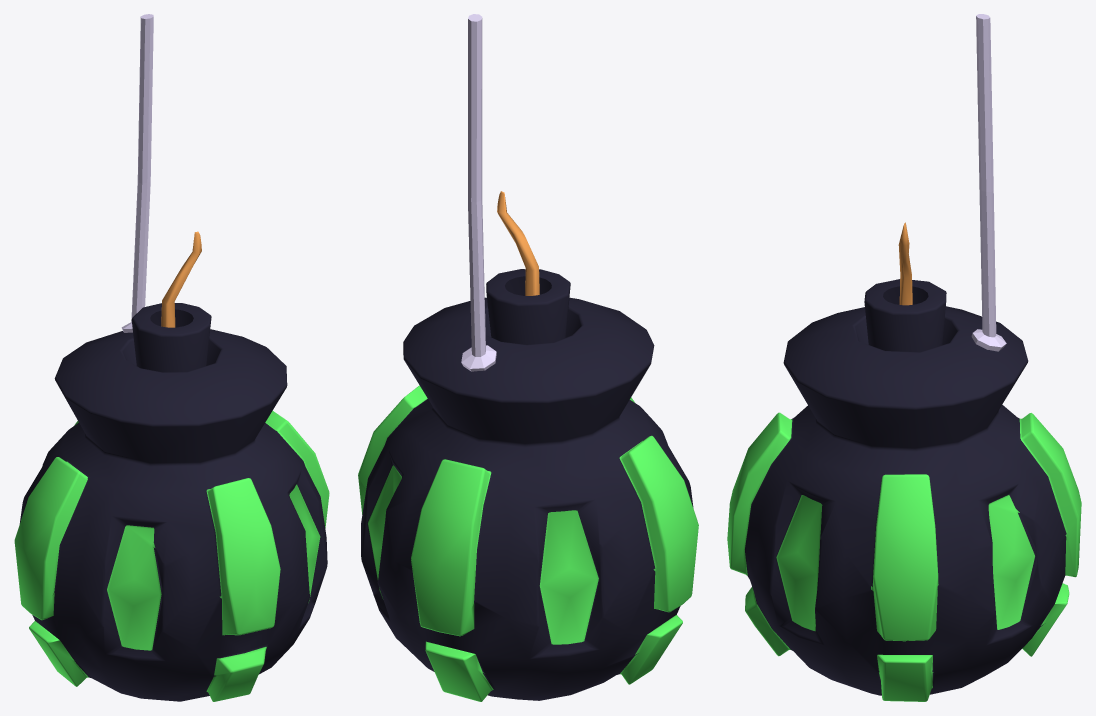
The model's file is Bomb.fbx.
3 views of the same model, side by side, from view 1: azimuth 30°, elevation 25°; view 2: azimuth 150°, elevation 25°; view 3: azimuth 270°, elevation 25° (orthographic). The views are drawn at different scales.
Parts seen in each view (by area): view 1: Bomb; view 2: Bomb; view 3: Bomb.
Part boxes in pixels (x1=…): Bomb: x1=14, y1=14, x2=329, y2=701; Bomb: x1=358, y1=14, x2=698, y2=701; Bomb: x1=727, y1=14, x2=1081, y2=701.
Size of the model in its own units: 137 by 289 by 138.
